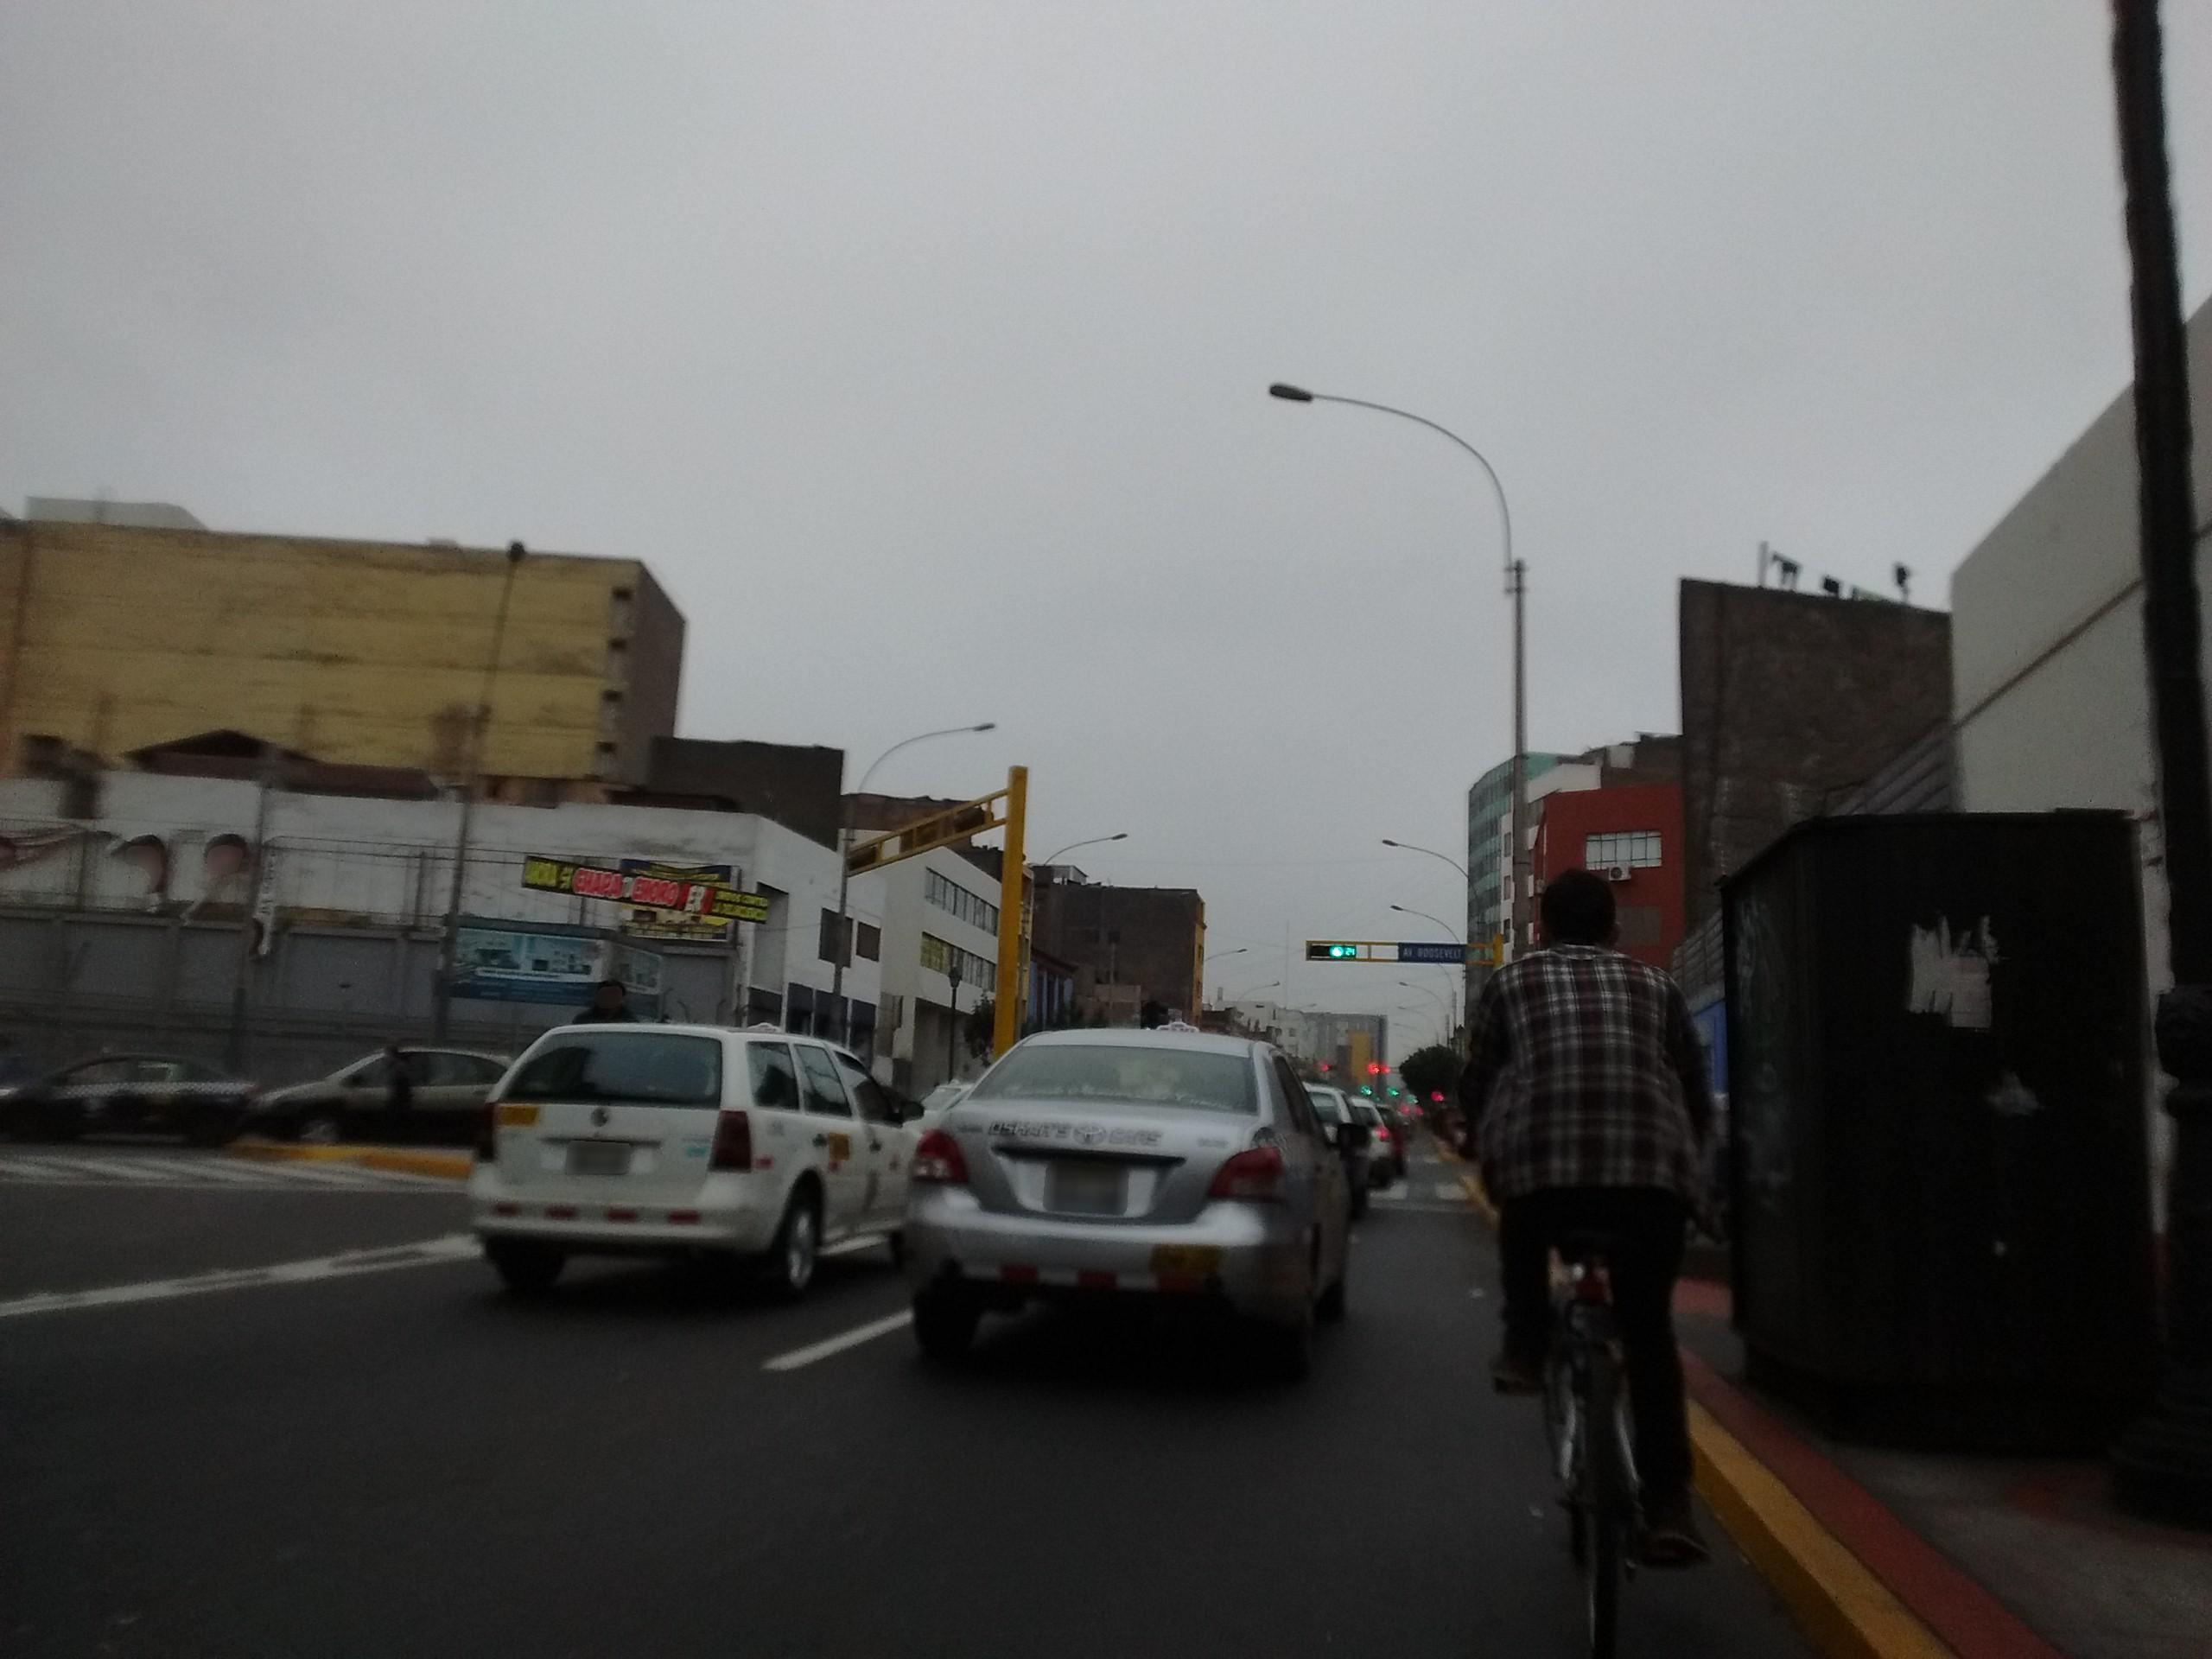vinyl banner: (502, 828, 784, 931)
